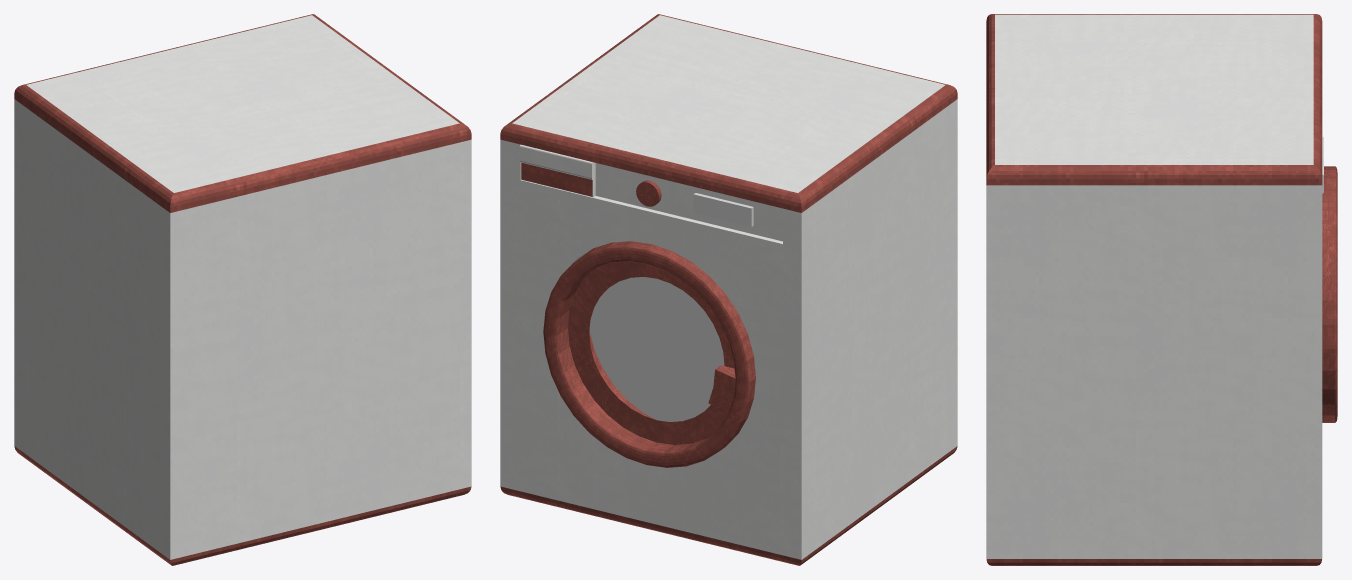
File: pralka (1).fbx
3 views of the same model, side by side, from view 1: azimuth 30°, elevation 25°; view 2: azimuth 150°, elevation 25°; view 3: azimuth 270°, elevation 25° (orthographic). The views are drawn at different scales.
Parts seen in each view (by area): view 1: Cube.022; view 2: Cube.022, Cylinder.033, Cube.023; view 3: Cube.022, Cylinder.033.
Part boxes in pixels (box(x1,y1,x2,y2)): Cube.022: box(14, 14, 471, 565); Cube.022: box(500, 14, 957, 565); Cylinder.033: box(543, 241, 755, 467); Cube.023: box(693, 193, 753, 226); Cube.022: box(986, 14, 1323, 565); Cylinder.033: box(1322, 166, 1337, 422).
Size of the model in its own units: 72.19 by 85.11 by 67.65.
Materials: 3 (2 with a texture image).
